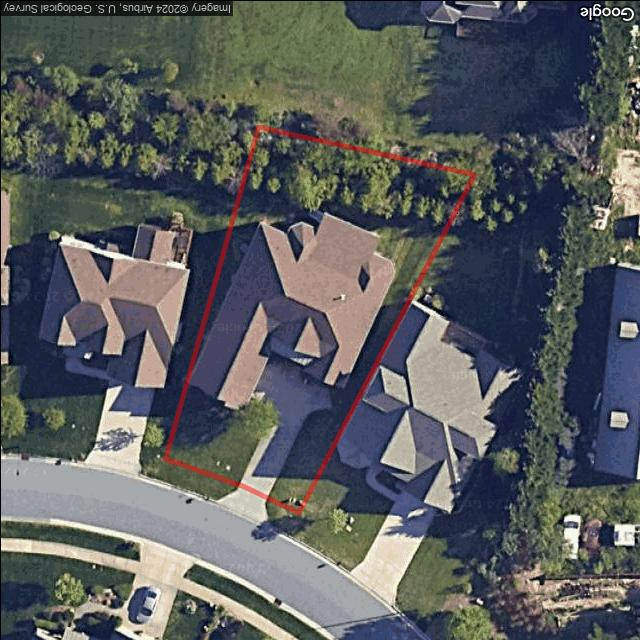Driveway: (238, 350, 334, 496)
Extra-Driveway: (214, 485, 268, 524)
Extra-Lawn: (156, 457, 237, 500), (265, 498, 300, 534)
House: (184, 213, 394, 410)
Lawn: (164, 126, 474, 512)
Other: (241, 127, 474, 218)
